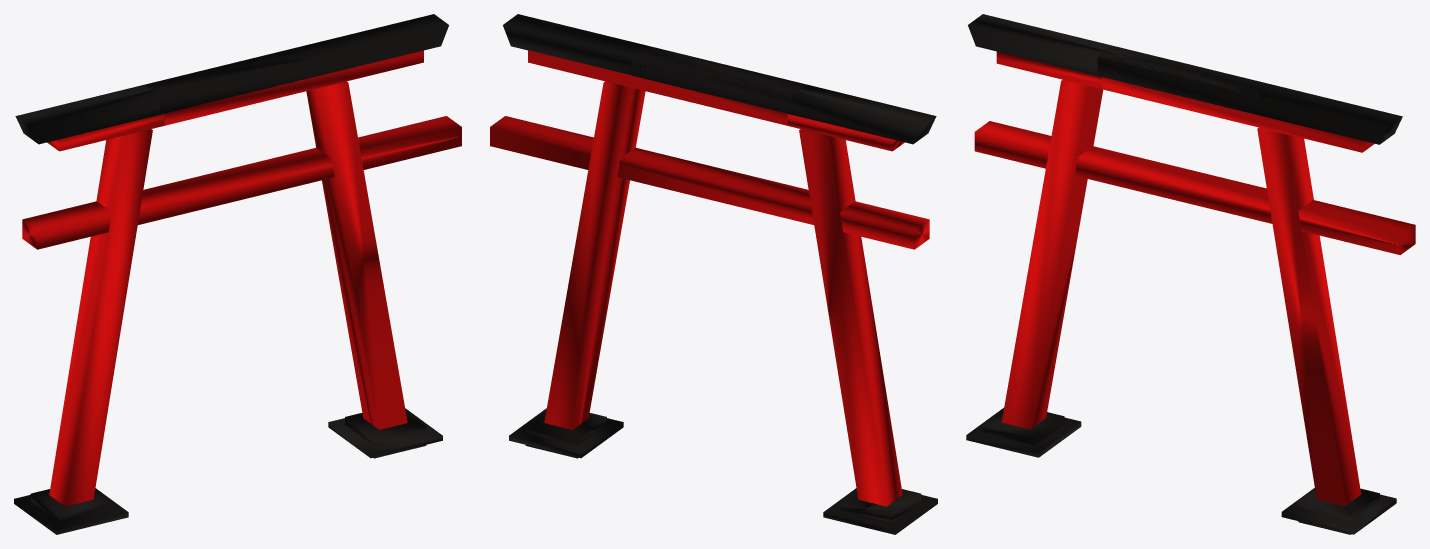
File: gate_2.obj
3 renders of one model, left to right at view 1: azimuth 30°, elevation 25°; view 2: azimuth 150°, elevation 25°; view 3: azimuth 330°, elevation 25°, orthographic.
Parts seen in each view (by area): view 1: pCube9; view 2: pCube9; view 3: pCube9.
Part boxes in pixels (x1=…): pCube9: x1=14, y1=14, x2=461, y2=534; pCube9: x1=490, y1=14, x2=937, y2=534; pCube9: x1=966, y1=14, x2=1415, y2=534.
Bounding box in the file's own units: 10.63 × 9.61 × 1.81.
